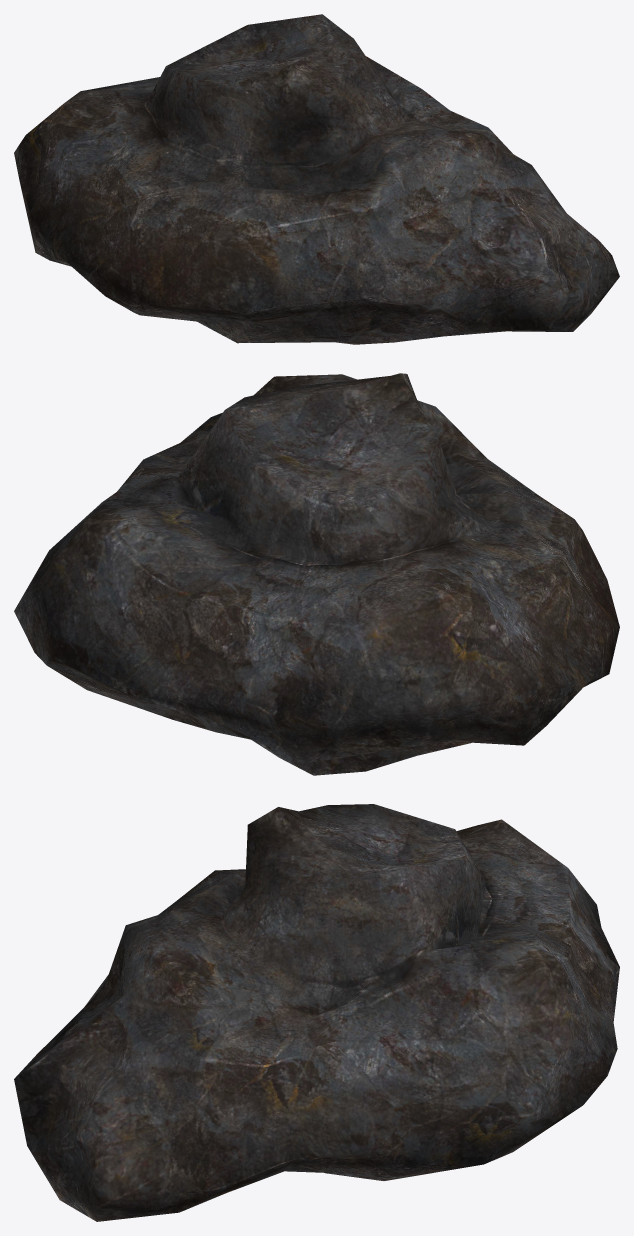
The model's file is rock5.obj.
3 views of the same model, one above another, from view 1: azimuth 30°, elevation 25°; view 2: azimuth 150°, elevation 25°; view 3: azimuth 270°, elevation 25° (orthographic). The views are drawn at different scales.
Visible parts, largest first — view 1: rock_05; view 2: rock_05; view 3: rock_05.
Part boxes in pixels (x1=…): rock_05: x1=14, y1=14, x2=619, y2=344; rock_05: x1=14, y1=373, x2=619, y2=775; rock_05: x1=14, y1=804, x2=619, y2=1221.
Size of the model in its own units: 6 by 3.4 by 6.
